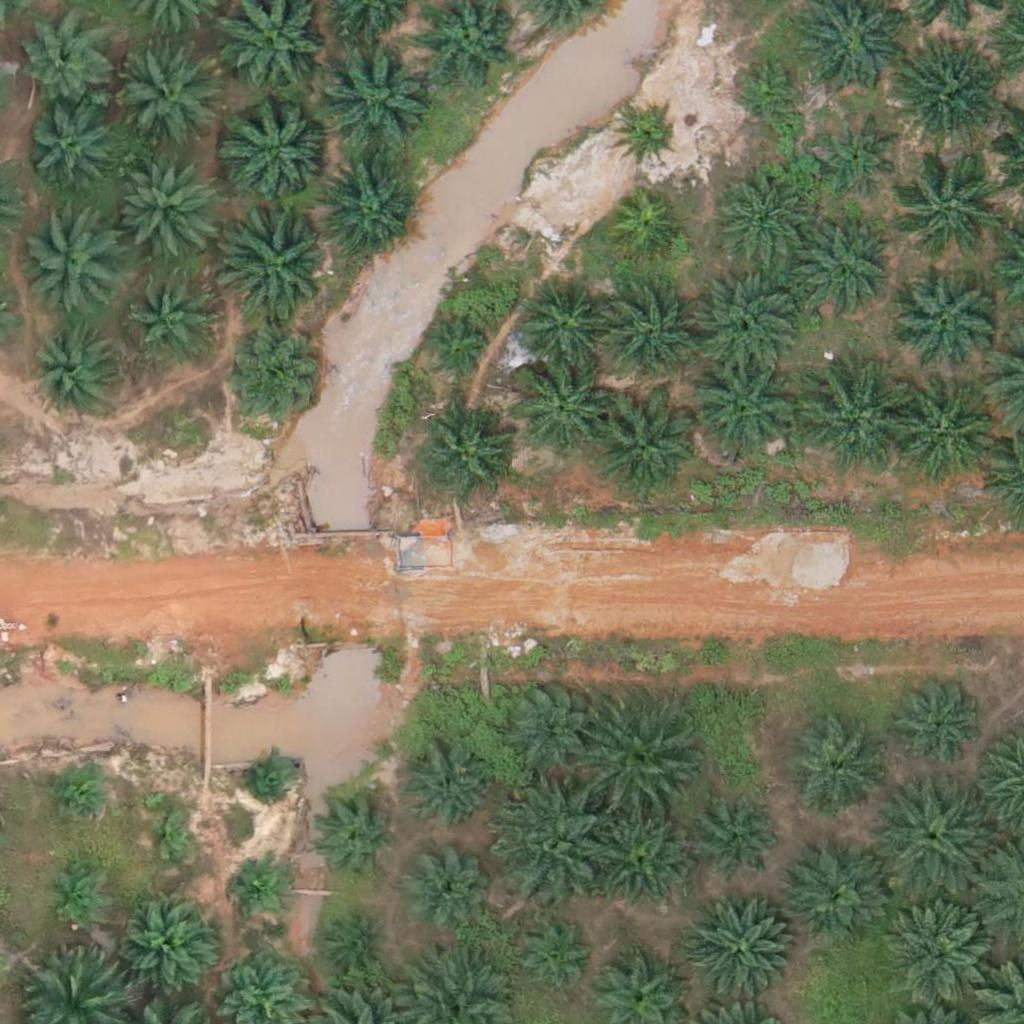Kelapa_Sawit: (884, 900, 997, 1013), (689, 265, 802, 378), (686, 353, 799, 466), (588, 392, 701, 505), (317, 38, 430, 151), (222, 93, 335, 206), (896, 145, 1008, 259), (794, 362, 906, 476), (882, 779, 994, 892), (687, 895, 799, 1008), (584, 708, 696, 821), (494, 787, 606, 900), (884, 381, 996, 494), (887, 42, 999, 155), (221, 205, 333, 318), (888, 673, 988, 774), (783, 846, 883, 947), (590, 806, 690, 907), (496, 673, 596, 774), (891, 270, 991, 371), (791, 221, 891, 322), (599, 287, 699, 388), (514, 278, 614, 379), (316, 159, 416, 260), (416, 404, 516, 505), (224, 332, 324, 433), (116, 51, 216, 152), (112, 159, 212, 260), (787, 723, 887, 823), (122, 897, 222, 997), (714, 169, 814, 269), (509, 358, 609, 458), (23, 211, 123, 311), (814, 115, 902, 203), (20, 19, 108, 107), (402, 744, 489, 833), (23, 106, 110, 195), (696, 797, 783, 885), (509, 914, 596, 1002), (402, 843, 489, 931), (312, 791, 399, 879), (130, 277, 217, 365), (32, 326, 119, 414), (731, 54, 806, 129), (607, 192, 682, 267), (422, 316, 497, 391), (616, 105, 679, 168), (234, 860, 284, 911), (241, 750, 291, 800), (332, 919, 382, 969), (144, 813, 194, 863), (52, 767, 102, 817), (47, 870, 97, 920)
